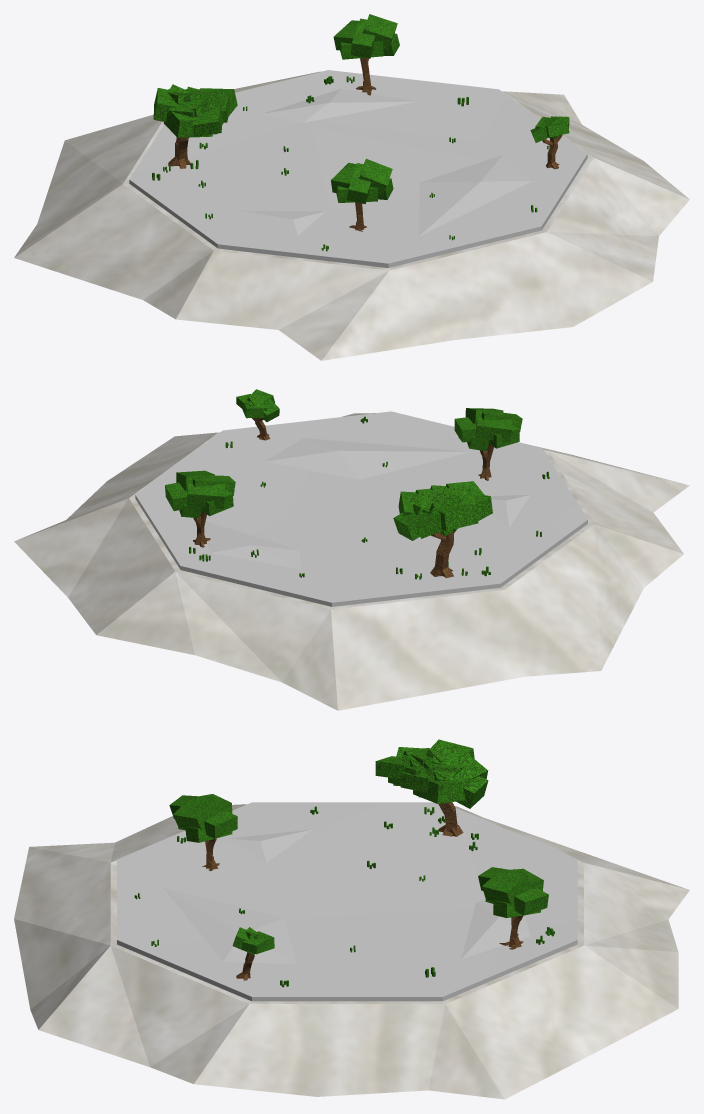
The model's file is Map_05.fbx.
The picture shows the model from 3 angles, top to bottom: view 1: azimuth 30°, elevation 25°; view 2: azimuth 150°, elevation 25°; view 3: azimuth 270°, elevation 25°; orthographic projection. The views are drawn at different scales.
Parts seen in each view (by area): view 1: Map_05; view 2: Map_05; view 3: Map_05.
Boxes of the visible parts, bbox=[...] form: Map_05: bbox=[14, 14, 689, 360]; Map_05: bbox=[14, 389, 689, 710]; Map_05: bbox=[14, 739, 689, 1099].
Size of the model in its own units: 7720 by 1867 by 7325.
